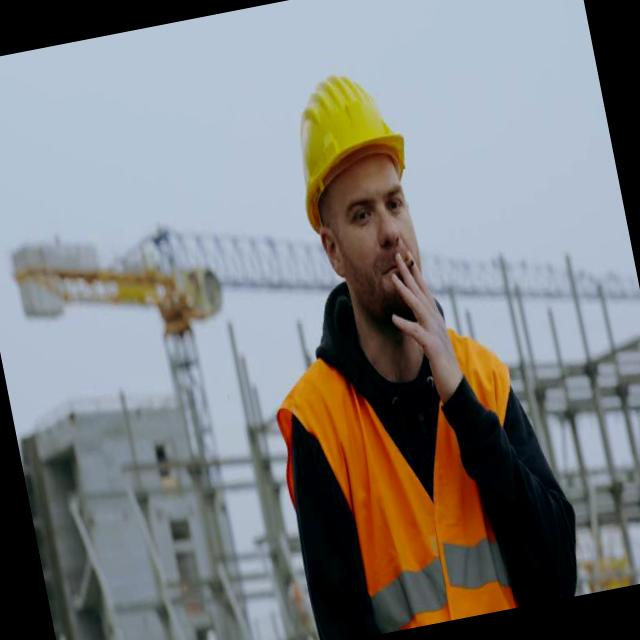cigarette: (388, 243, 427, 302)
